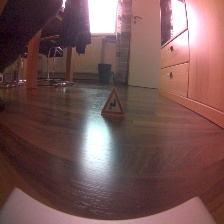vorsicht: (98, 86, 126, 118)
